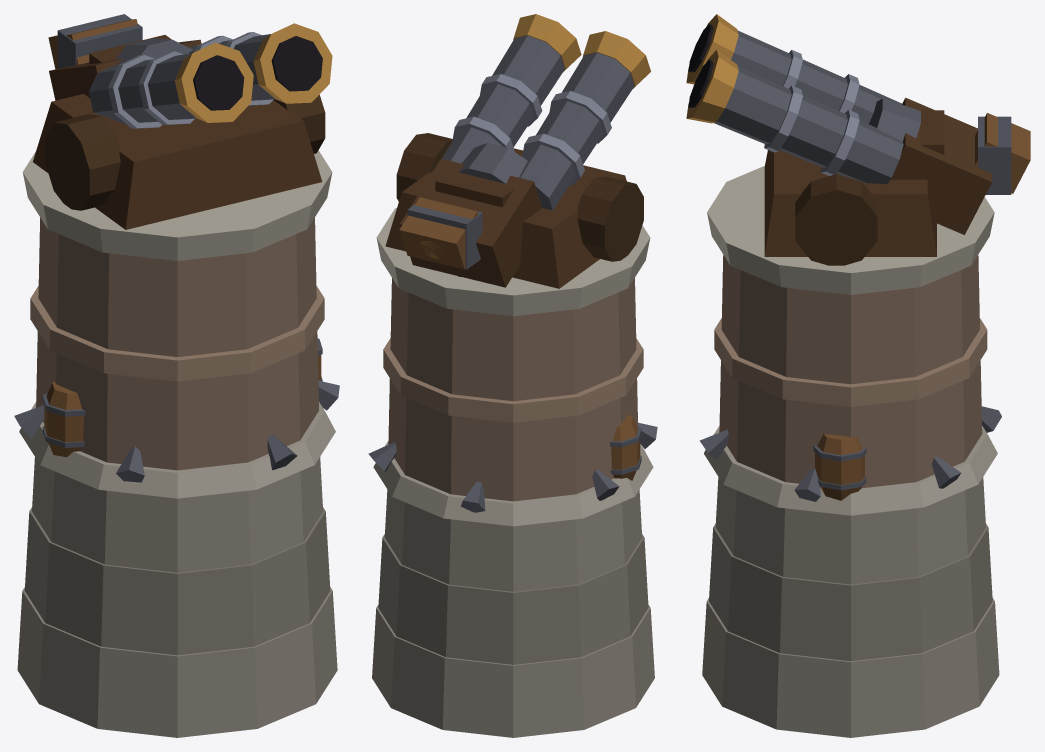
Rendered from tower_cannon_l3_twin.glb.
The picture shows the model from 3 angles, left to right: view 1: azimuth 30°, elevation 25°; view 2: azimuth 150°, elevation 25°; view 3: azimuth 270°, elevation 25°; orthographic projection. The views are drawn at different scales.
Visible parts, largest first — view 1: Body, Turret; view 2: Body, Turret; view 3: Body, Turret.
Boxes of the visible parts, bbox=[...] form: Body: bbox=[14, 150, 339, 737]; Turret: bbox=[33, 14, 332, 229]; Body: bbox=[368, 208, 657, 737]; Turret: bbox=[385, 14, 650, 288]; Body: bbox=[700, 166, 1001, 737]; Turret: bbox=[686, 14, 1030, 265].
Bounding box in the file's own units: 0.6217 × 1.47 × 0.7176.
